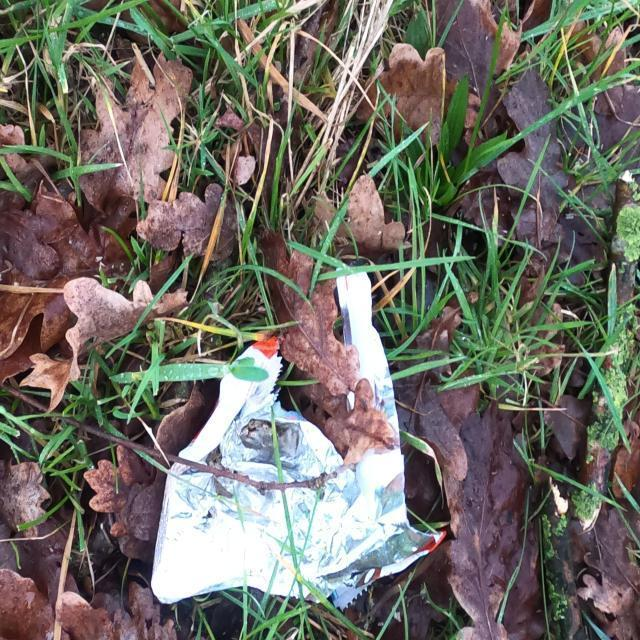Plastic: (150, 256, 448, 612)
